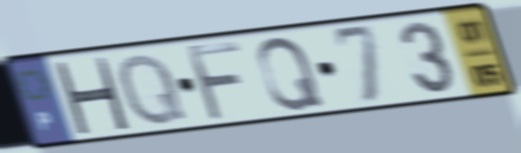3: (398, 19, 458, 96)
7: (328, 23, 384, 108)
F: (182, 39, 248, 124)
H: (50, 56, 133, 135)
Q: (115, 50, 191, 129), (254, 34, 327, 114)
